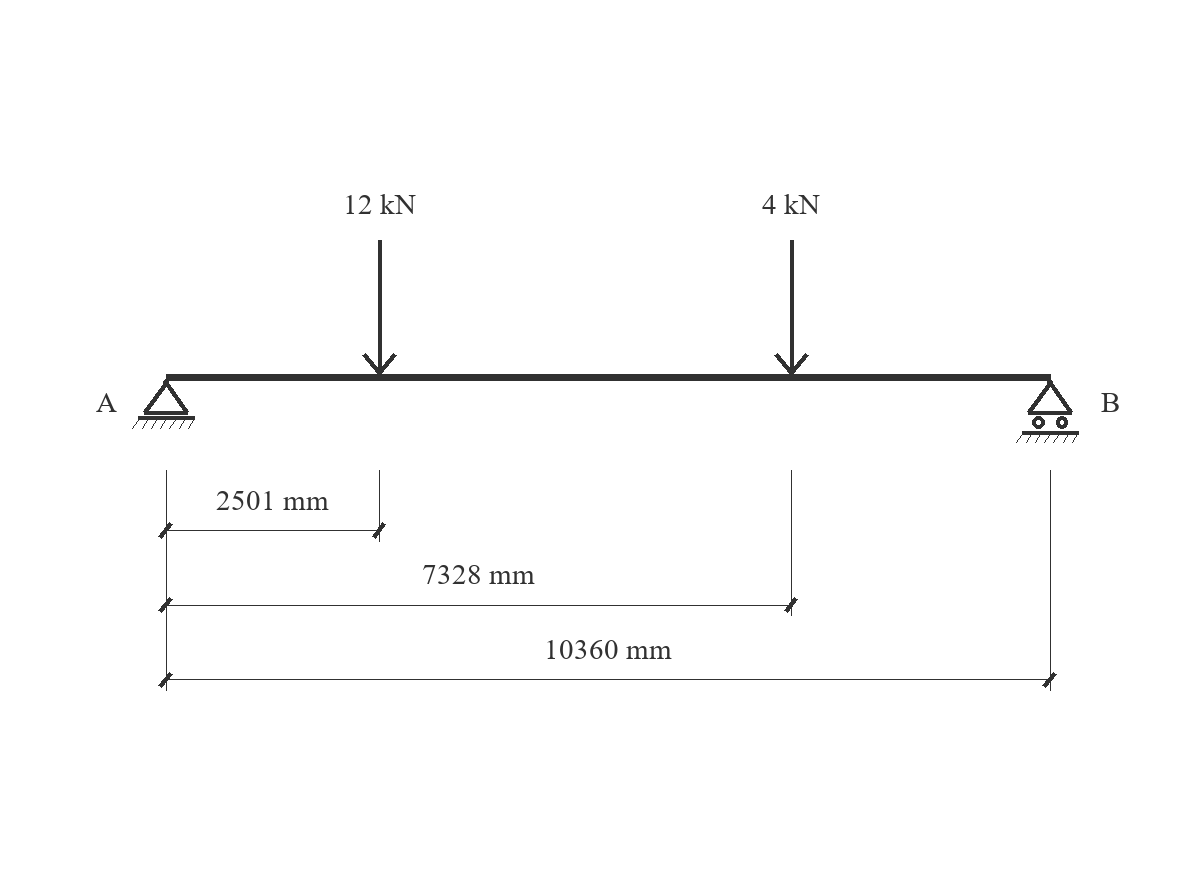pin_support: (132, 379, 195, 429)
point_load: (362, 240, 397, 375), (774, 240, 809, 375)
roller_support: (1016, 379, 1079, 443)
